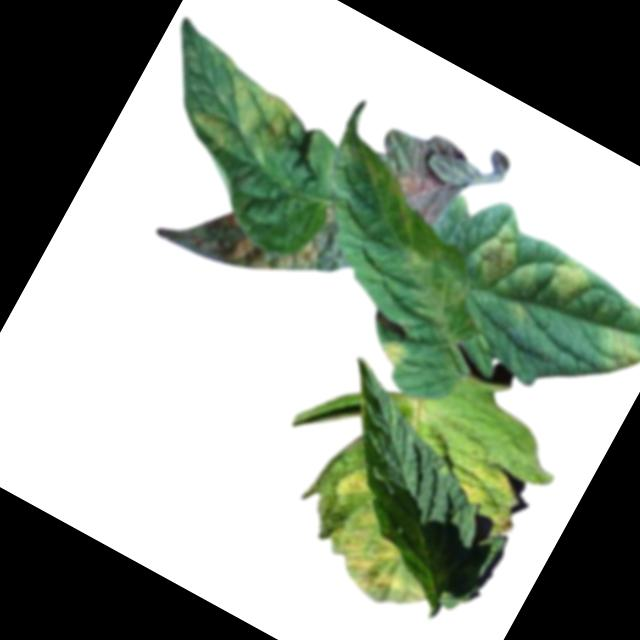Leaf_Mold: (150, 145, 365, 324), (295, 460, 466, 623), (180, 54, 311, 179), (355, 111, 483, 234), (448, 455, 538, 541), (463, 218, 539, 302), (538, 248, 603, 313), (594, 326, 640, 384), (375, 332, 415, 374)
